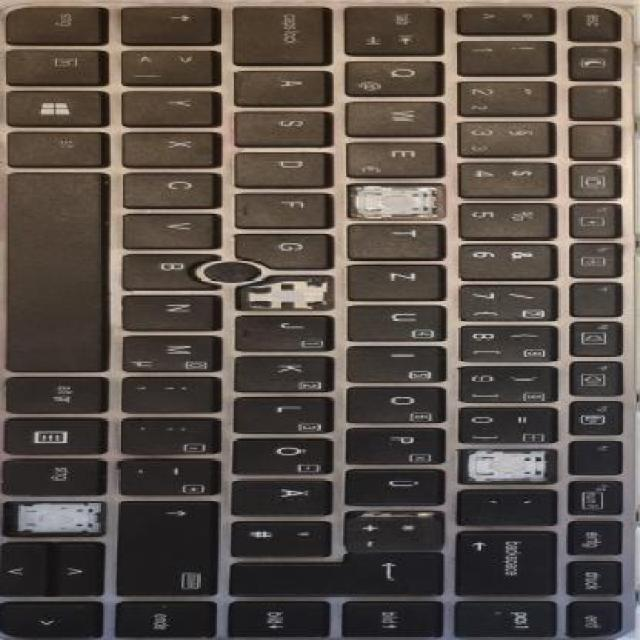Keyboard problems: (3, 502, 105, 535), (235, 275, 334, 308), (460, 449, 555, 483), (351, 186, 443, 217)
